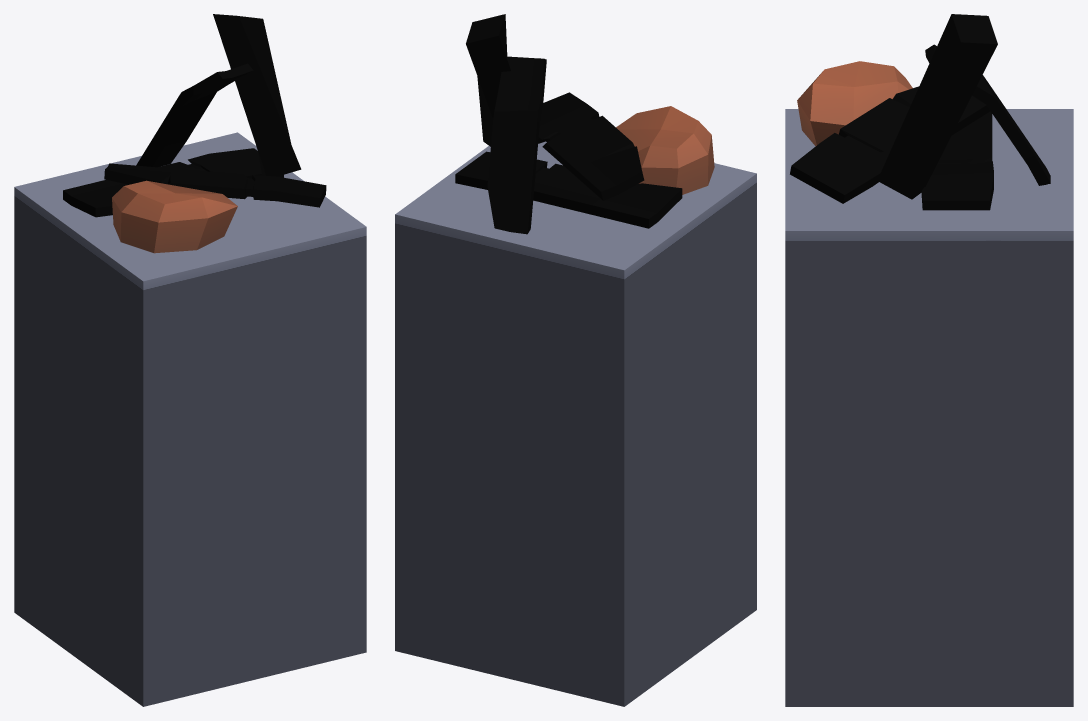
File: debris2.glb
The picture shows the model from 3 angles, left to right: view 1: azimuth 30°, elevation 25°; view 2: azimuth 150°, elevation 25°; view 3: azimuth 270°, elevation 25°; orthographic projection. The views are drawn at different scales.
Parts seen in each view (by area): view 1: debris2mesh; view 2: debris2mesh; view 3: debris2mesh.
Boxes of the visible parts, x1=… form: debris2mesh: x1=14, y1=14, x2=366, y2=706; debris2mesh: x1=395, y1=14, x2=756, y2=706; debris2mesh: x1=785, y1=14, x2=1073, y2=706.
Bounding box in the file's own units: 1 × 2.54 × 1.
1 material, 1 textured.
